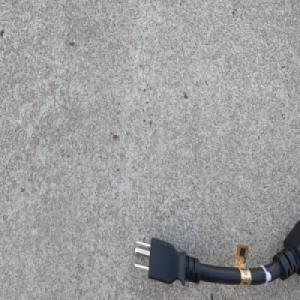Wire: (132, 220, 300, 288)
